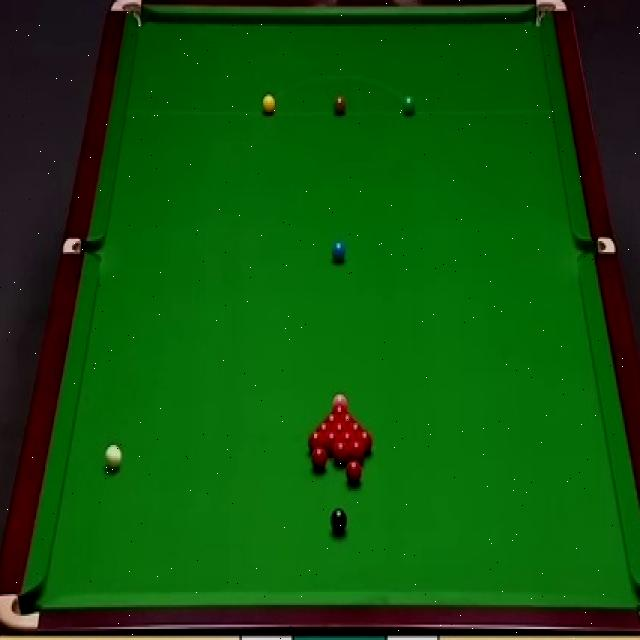black-ball: (329, 508, 349, 535)
blue-ball: (332, 239, 346, 266)
brown-ball: (332, 94, 347, 115)
green-ball: (402, 95, 416, 115)
pink-ball: (332, 393, 348, 408)
red-ball: (346, 459, 363, 486), (324, 430, 340, 455), (348, 439, 364, 463), (334, 442, 349, 466), (307, 430, 323, 451), (358, 432, 372, 455), (312, 448, 326, 470), (339, 411, 353, 433), (333, 423, 348, 443), (324, 412, 340, 430), (348, 420, 362, 440), (330, 405, 348, 420), (317, 422, 332, 438)
white-ball: (103, 443, 123, 473)
yellow-ball: (261, 94, 276, 115)
